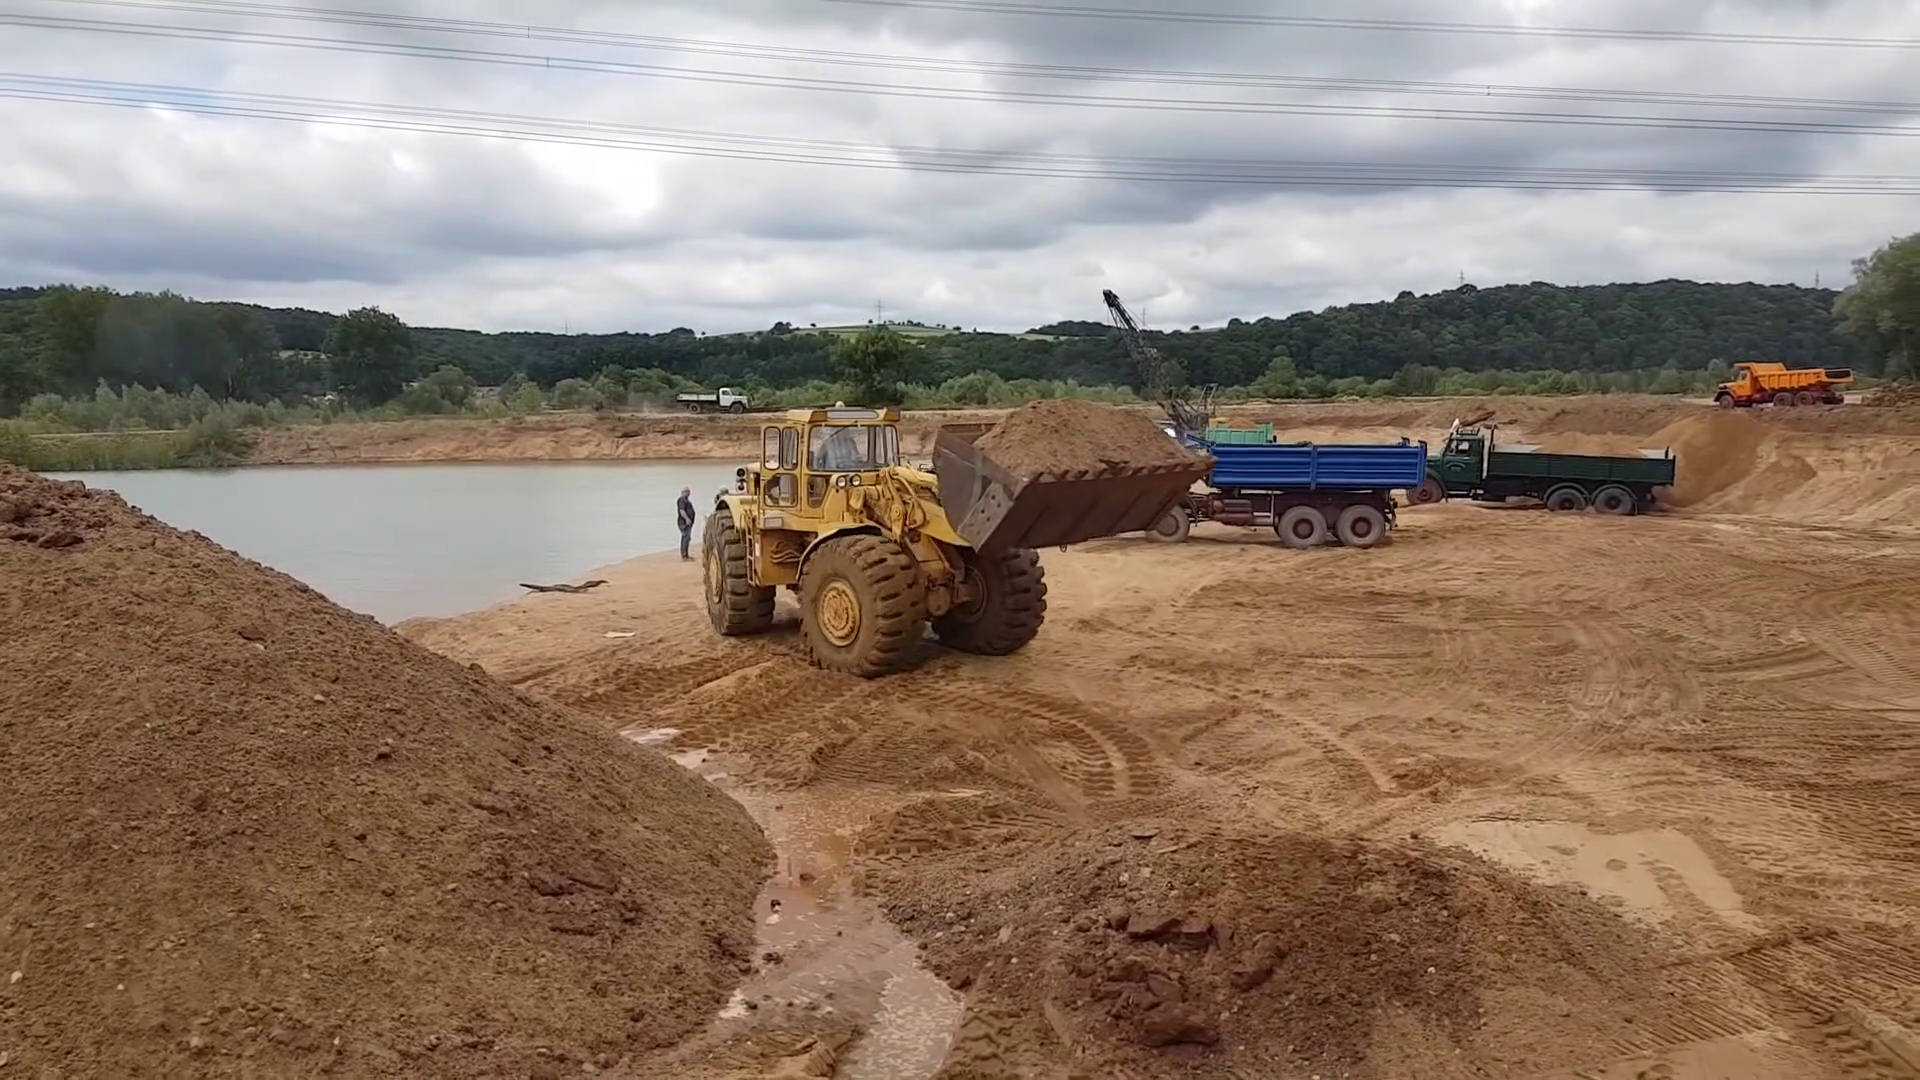person: (673, 483, 696, 561)
truck: (1155, 419, 1424, 555), (1410, 428, 1675, 526), (1711, 358, 1852, 406), (671, 386, 751, 415)
wheel loader: (706, 404, 1220, 678)
